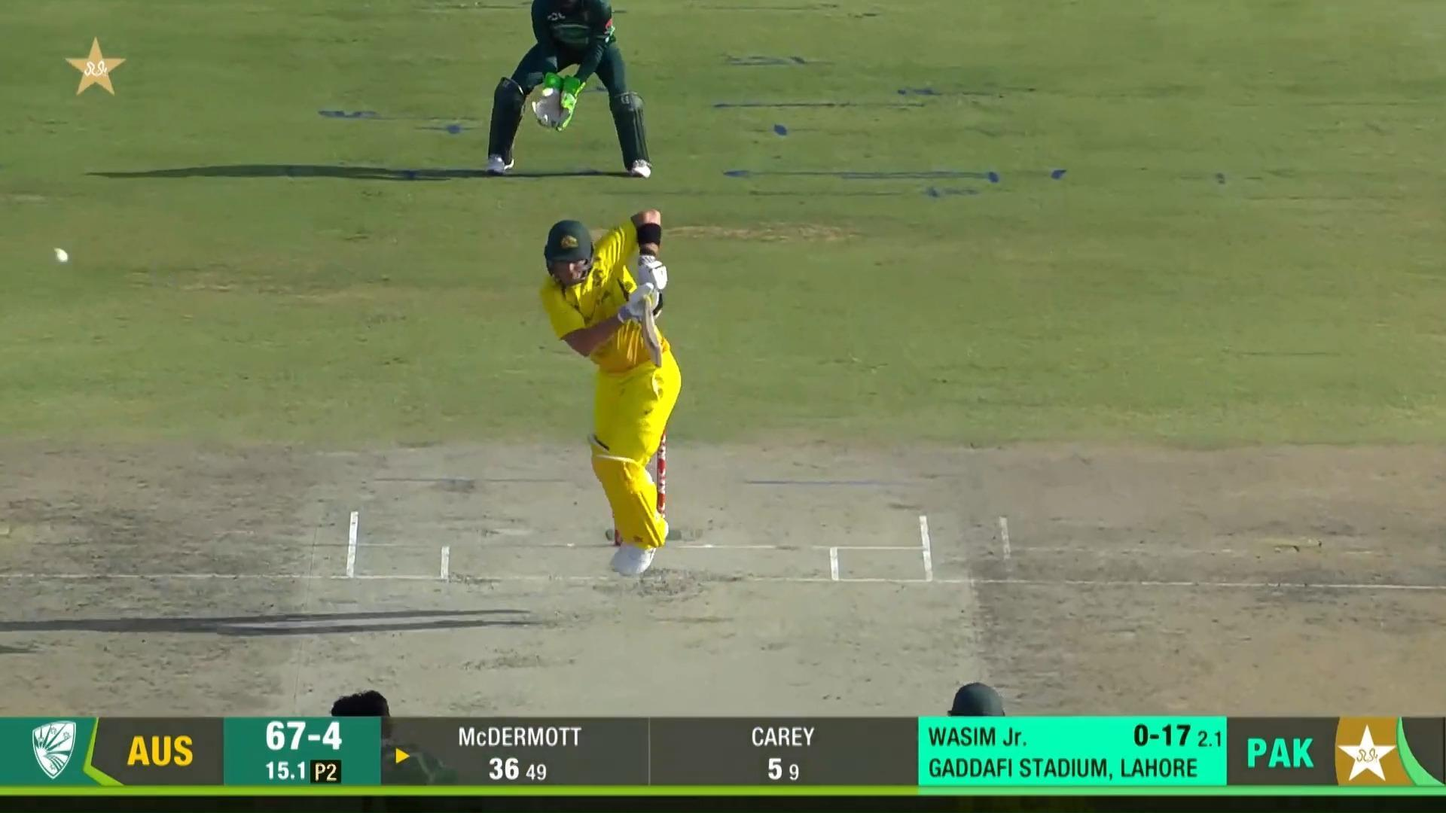BM 1: (537, 208, 683, 577)
BO: (329, 686, 489, 813)
